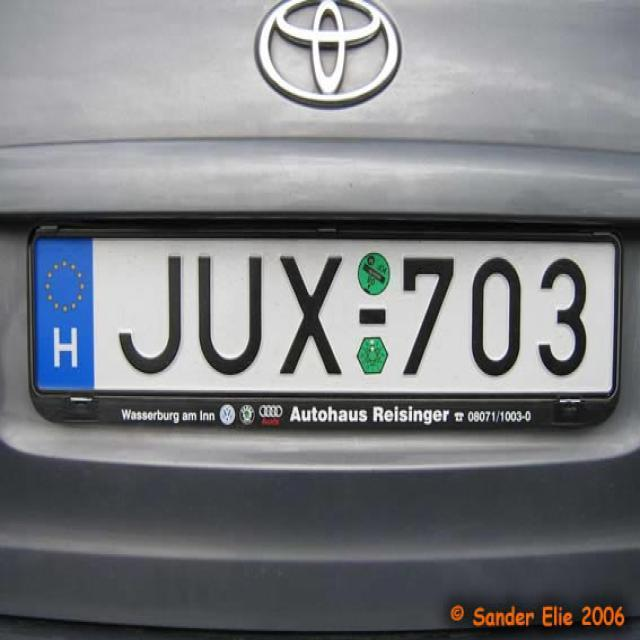licence: (26, 218, 623, 433)
